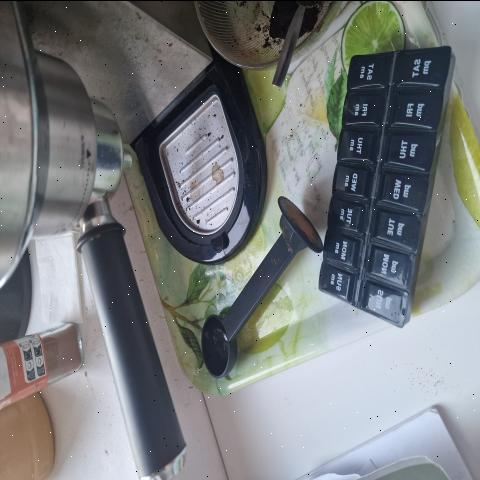PillBox: (310, 33, 462, 364)
